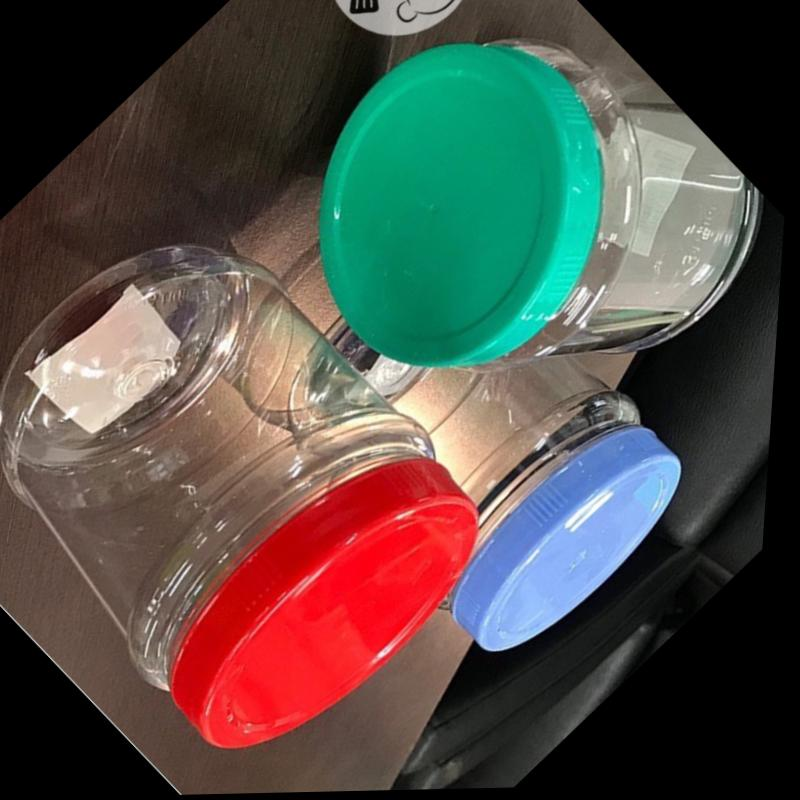plastic: (0, 246, 476, 792), (581, 0, 799, 492), (335, 0, 460, 36)
